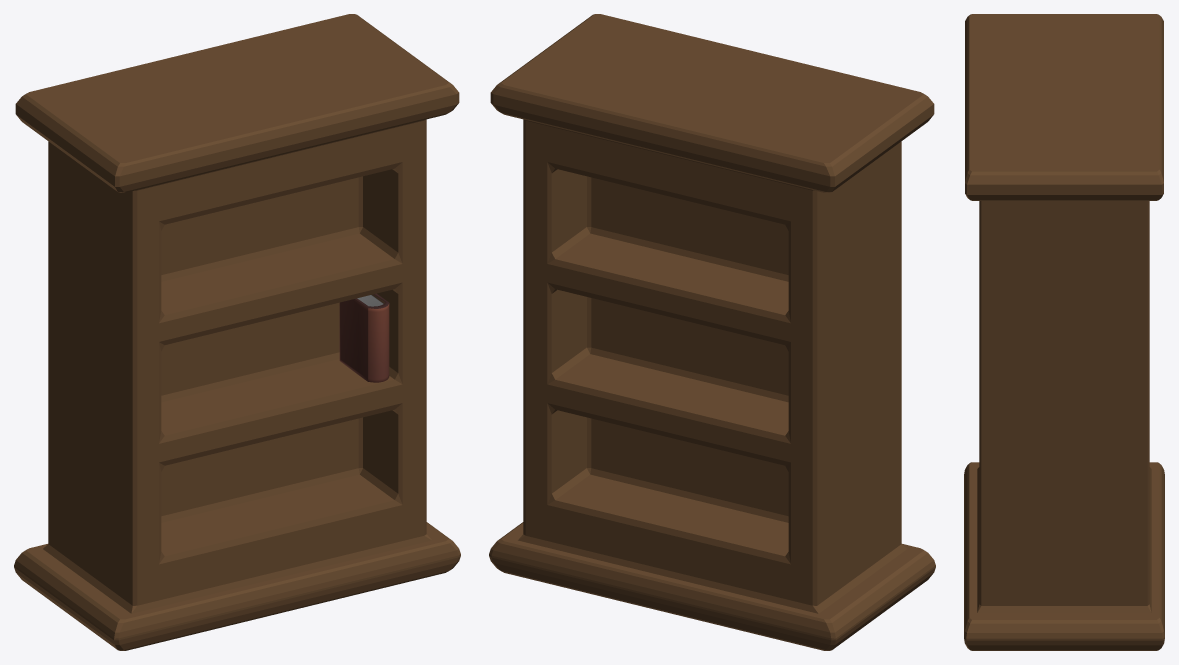
File: book_sample.glb
The picture shows the model from 3 angles, left to right: view 1: azimuth 30°, elevation 25°; view 2: azimuth 150°, elevation 25°; view 3: azimuth 270°, elevation 25°; orthographic projection.
Visible parts, largest first — view 1: Shelf01-col, Book_Sample-col; view 2: Shelf01-col; view 3: Shelf01-col.
Boxes of the visible parts, x1,y1,x2,y2 form: Shelf01-col: (14, 14, 460, 650); Book_Sample-col: (339, 293, 389, 382); Shelf01-col: (489, 14, 935, 650); Shelf01-col: (964, 14, 1164, 650).
Bounding box in the file's own units: 2.36 × 3.17 × 1.2.
Materials: 2 (1 with a texture image).
